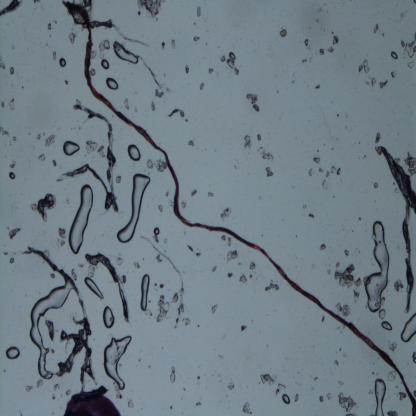Air bubble: (29, 282, 70, 380), (364, 219, 391, 313), (116, 173, 150, 245), (68, 184, 94, 255), (104, 334, 134, 391), (373, 376, 388, 416), (113, 40, 138, 64), (83, 278, 106, 300), (399, 314, 416, 343), (139, 272, 150, 312), (102, 307, 116, 328), (63, 141, 80, 158), (127, 143, 142, 162), (5, 345, 21, 362), (105, 76, 119, 90), (280, 392, 292, 407), (381, 319, 394, 332), (100, 59, 110, 70), (58, 58, 67, 70), (390, 50, 399, 62), (8, 172, 16, 180)
Background material: (219, 51, 242, 76), (333, 263, 355, 289), (38, 192, 56, 222), (136, 0, 163, 19), (337, 392, 359, 414), (155, 296, 170, 326), (400, 39, 416, 59), (256, 146, 275, 162), (258, 372, 277, 387), (246, 93, 260, 113), (99, 39, 111, 60), (223, 249, 239, 264), (263, 282, 282, 294), (84, 139, 98, 155), (358, 59, 371, 76), (58, 226, 68, 247), (220, 206, 233, 222), (274, 383, 288, 397), (354, 276, 362, 300), (187, 245, 201, 258), (155, 159, 167, 174), (144, 157, 155, 173), (242, 134, 253, 150), (152, 227, 162, 244), (393, 279, 403, 296), (238, 271, 249, 286), (98, 144, 108, 160), (366, 75, 377, 89), (85, 262, 95, 277), (374, 129, 383, 145), (0, 54, 8, 72), (331, 164, 342, 177), (7, 228, 20, 239), (241, 401, 252, 414), (387, 370, 397, 384), (264, 166, 274, 180), (46, 134, 56, 148), (148, 100, 158, 114), (67, 32, 77, 46), (226, 379, 236, 391), (182, 316, 192, 328), (388, 340, 398, 352), (169, 365, 176, 381), (378, 79, 389, 89), (0, 128, 10, 139), (397, 390, 406, 402), (72, 264, 78, 282), (122, 99, 131, 111), (115, 255, 124, 267), (371, 21, 379, 34), (154, 89, 164, 99), (364, 385, 374, 395), (209, 305, 218, 316), (30, 202, 38, 214), (89, 66, 97, 78), (321, 179, 329, 191), (302, 37, 310, 49), (196, 5, 202, 20), (24, 384, 34, 393), (407, 60, 416, 70), (216, 351, 225, 361), (198, 81, 206, 92), (226, 269, 234, 280), (332, 35, 340, 46), (190, 189, 198, 200), (386, 408, 397, 416), (9, 98, 16, 110), (280, 27, 287, 39), (157, 202, 164, 214), (226, 236, 233, 248), (328, 390, 334, 404), (327, 45, 336, 54), (35, 379, 44, 388), (7, 65, 15, 75), (370, 180, 378, 190), (187, 138, 195, 148), (172, 293, 180, 303), (134, 257, 140, 270), (389, 71, 398, 79), (127, 400, 136, 408), (206, 191, 215, 199), (336, 300, 342, 312), (248, 262, 257, 270), (239, 324, 248, 332), (36, 130, 42, 142), (192, 36, 202, 43), (332, 356, 339, 366), (184, 64, 190, 75), (312, 156, 320, 164), (38, 154, 46, 162), (318, 48, 326, 56), (62, 78, 70, 86), (317, 5, 325, 13), (180, 201, 187, 210), (10, 162, 17, 171), (343, 248, 350, 257), (294, 393, 300, 403), (53, 49, 58, 61), (0, 100, 6, 110), (91, 50, 97, 60), (50, 271, 56, 281), (319, 243, 326, 251), (53, 384, 60, 392), (171, 39, 176, 50), (47, 23, 53, 32), (156, 253, 162, 262), (308, 168, 313, 178), (207, 68, 214, 75), (307, 214, 315, 220), (316, 83, 322, 91), (318, 395, 324, 403), (256, 134, 262, 142), (318, 166, 324, 174), (301, 203, 307, 211), (212, 266, 218, 274), (12, 134, 18, 142), (66, 388, 72, 396), (161, 41, 166, 50), (221, 235, 227, 242), (394, 187, 400, 194), (338, 379, 344, 386), (50, 393, 56, 400), (302, 58, 309, 64), (10, 257, 16, 264), (326, 170, 330, 180), (196, 373, 201, 381), (327, 268, 332, 275), (168, 404, 173, 411), (34, 0, 42, 4), (322, 315, 326, 323), (314, 376, 319, 382), (315, 18, 320, 23), (159, 284, 164, 289), (196, 401, 200, 407), (358, 215, 362, 221), (53, 160, 57, 166), (183, 386, 186, 394), (164, 240, 168, 245), (336, 112, 340, 117), (53, 19, 57, 24), (291, 79, 295, 84), (413, 0, 416, 6), (147, 364, 151, 368), (371, 370, 374, 375), (12, 44, 14, 50), (196, 324, 199, 328), (193, 21, 196, 25), (154, 284, 156, 288), (332, 30, 334, 34), (277, 90, 278, 94)
Cellulose filter fibre: (24, 247, 96, 391), (376, 145, 416, 313), (71, 102, 121, 212), (59, 0, 151, 49), (139, 233, 185, 326), (83, 248, 132, 325), (57, 162, 112, 209), (136, 54, 172, 95), (0, 0, 24, 18), (2, 245, 30, 259), (45, 318, 57, 348), (166, 108, 188, 121)
Cotton: (68, 5, 416, 416)
Diatom: (341, 305, 351, 318)
Pen: (63, 385, 122, 416)
